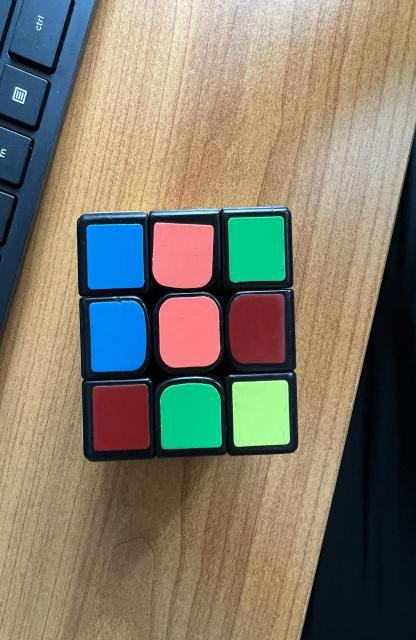Blue: (89, 300, 146, 372), (87, 224, 144, 290)
Green: (160, 382, 222, 450), (228, 216, 286, 282)
Orange: (158, 296, 221, 368), (153, 222, 213, 289)
Red: (92, 384, 151, 451), (229, 294, 285, 364)
Yellow: (232, 380, 290, 446)
